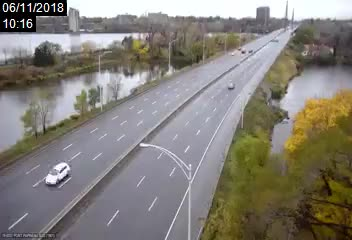personal_car: (45, 162, 72, 185), (227, 81, 235, 90)
